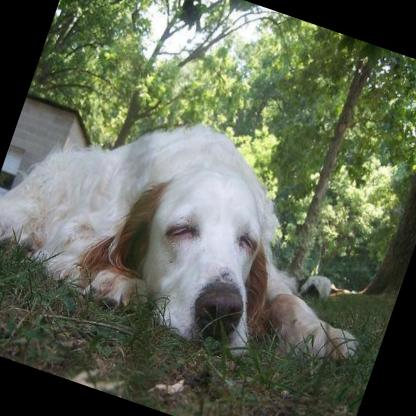English_setter: (0, 64, 412, 392)
